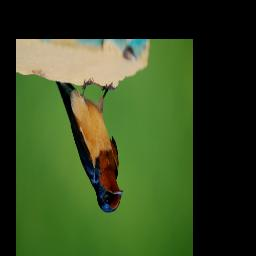Swallow: (55, 76, 124, 214)
